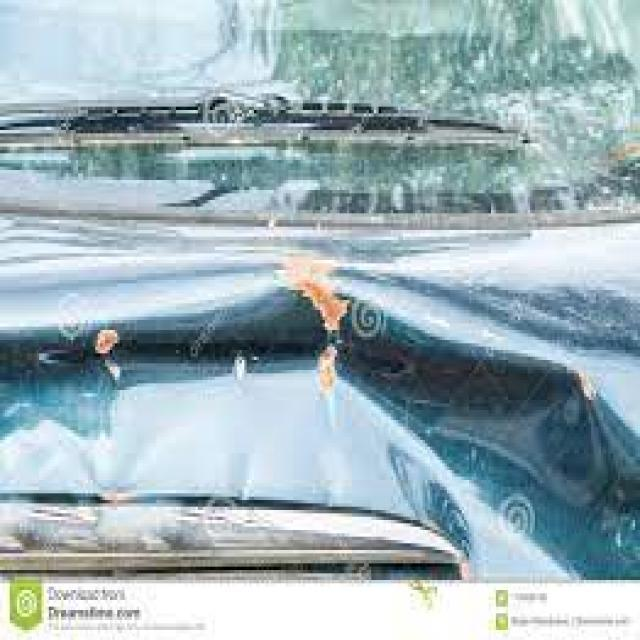damaged-trunk: (0, 190, 640, 572)
